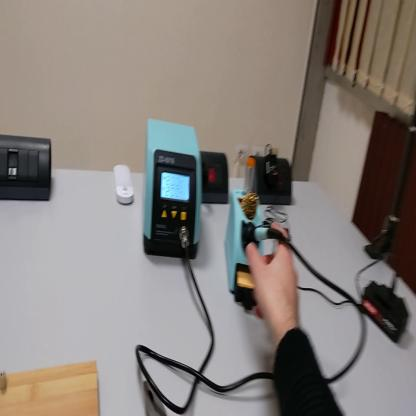electric screwdriver battery: (361, 278, 412, 344)
hand: (247, 239, 300, 331)
pliers: (144, 381, 167, 414)
socket: (251, 158, 295, 205), (201, 147, 230, 205)
welder base: (226, 153, 266, 310)
welder probe tip: (244, 225, 280, 246)
welder station: (143, 116, 201, 262)
working area: (2, 359, 100, 416)
